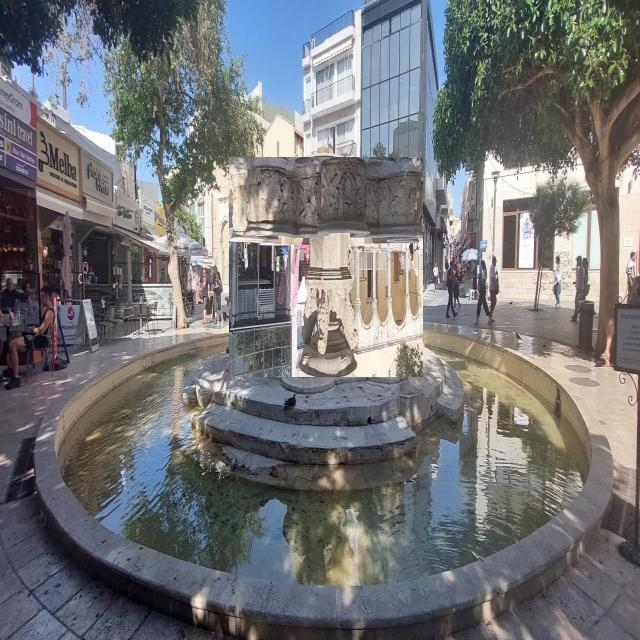Liontaria: (230, 158, 424, 378)
